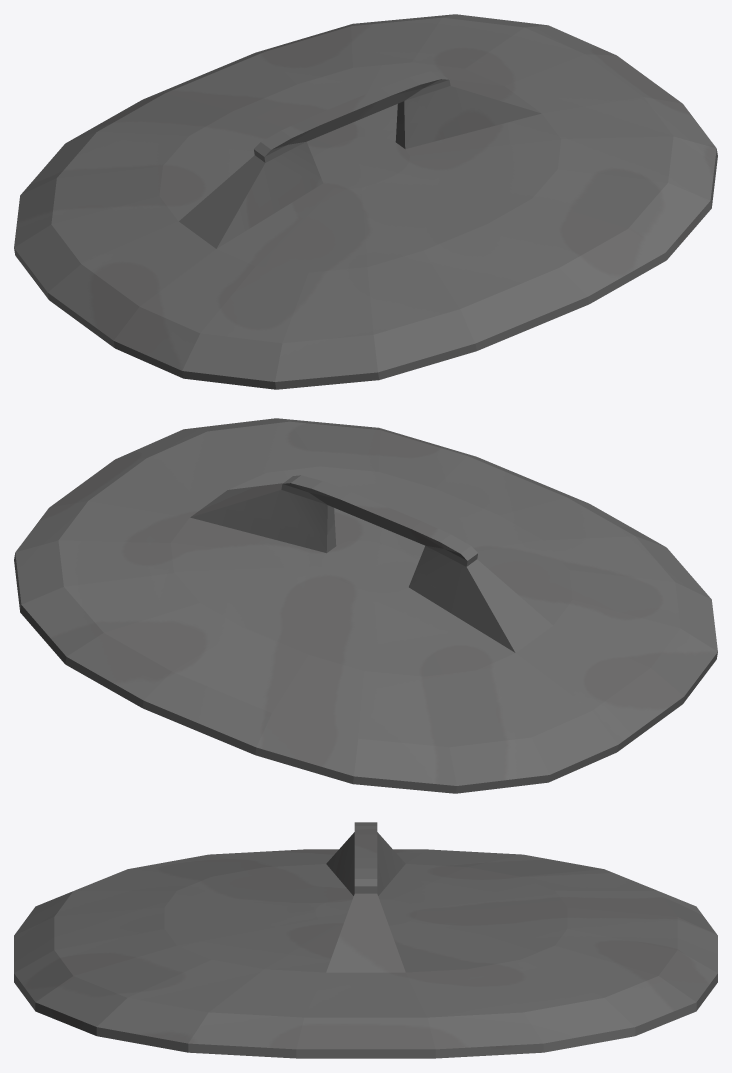
The model's file is Trashcanlid.fbx.
3 renders of one model, top to bottom at view 1: azimuth 30°, elevation 25°; view 2: azimuth 150°, elevation 25°; view 3: azimuth 270°, elevation 25°, orthographic. The views are drawn at different scales.
Parts seen in each view (by area): view 1: Cube.002; view 2: Cube.002; view 3: Cube.002.
Boxes of the visible parts, x1=… form: Cube.002: x1=14, y1=14, x2=717, y2=389; Cube.002: x1=14, y1=418, x2=717, y2=793; Cube.002: x1=14, y1=822, x2=717, y2=1058.
Bounding box in the file's own units: 156 × 42.55 × 158.
